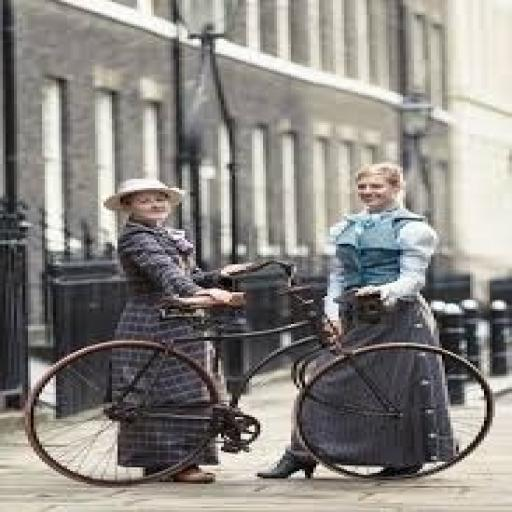cycling: (254, 160, 462, 482), (100, 177, 254, 486)
